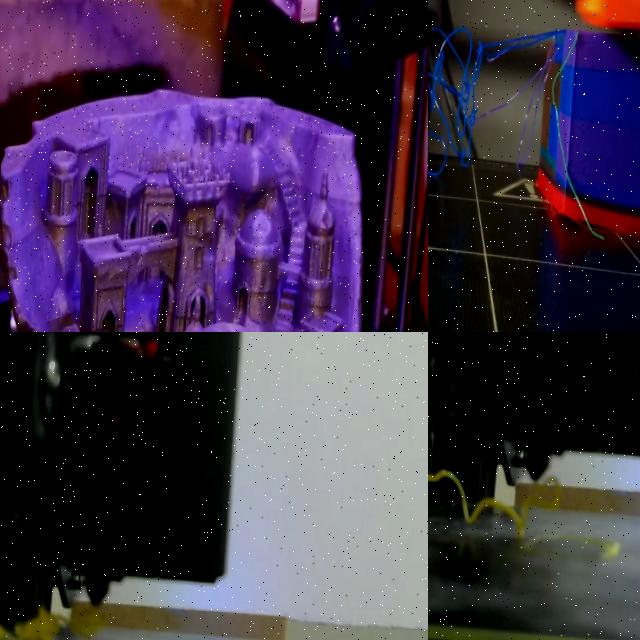spaghetti: (428, 0, 545, 232), (428, 470, 561, 539), (0, 608, 66, 640), (68, 606, 105, 638)
